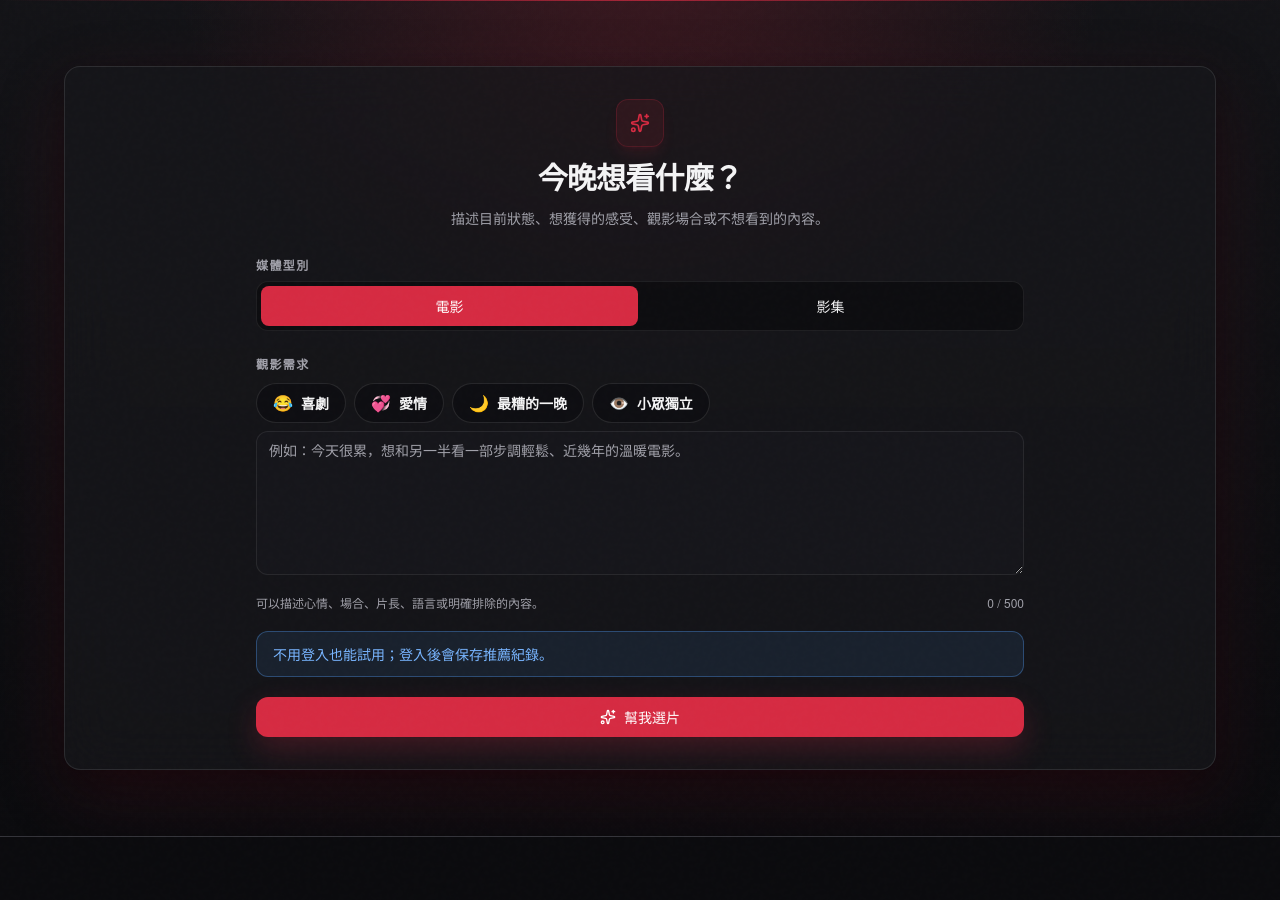
Test: AiMoviePicker › fills the request from the 喜劇 template without submitting
Expected: the text "想看輕鬆好笑、節奏明快，適合放空又能真的笑出來的。" is not shown
Click the button "😂 喜劇".
click(301, 403)  # box [256, 383, 346, 423]
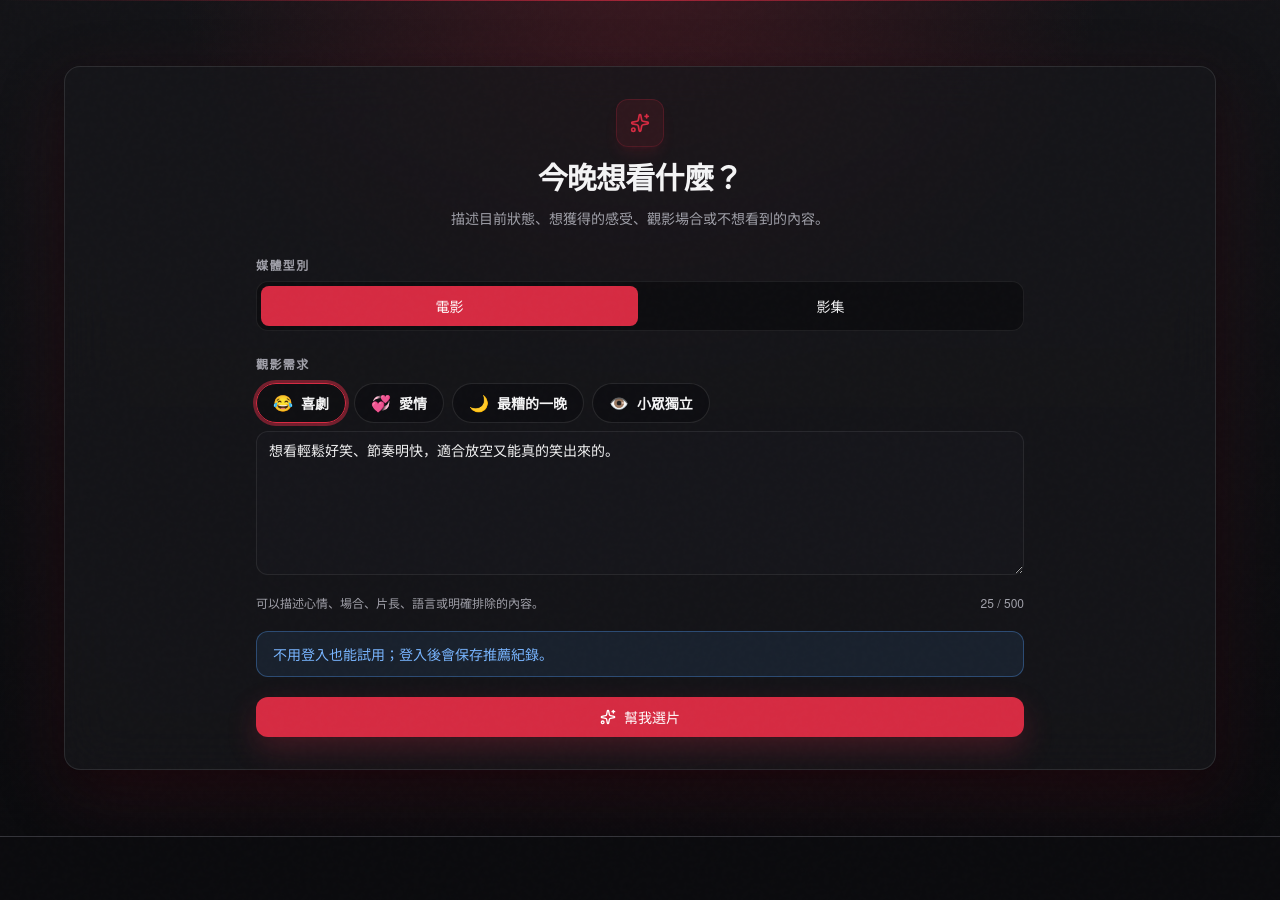
Now the text box labelled "觀影需求" holds "想看輕鬆好笑、節奏明快，適合放空又能真的笑出來的。", box [256, 431, 1024, 575]
